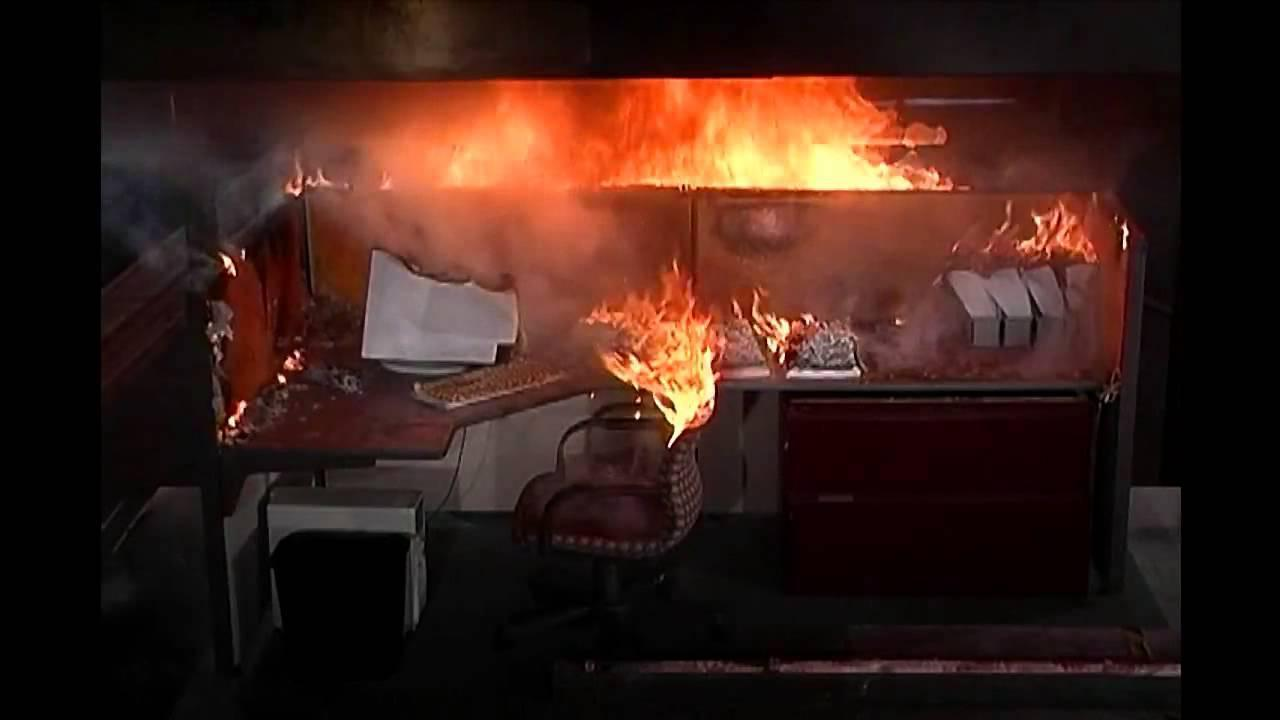Fire: (412, 69, 959, 196), (577, 265, 734, 452), (975, 196, 1103, 260), (740, 272, 814, 371), (278, 146, 355, 202)
